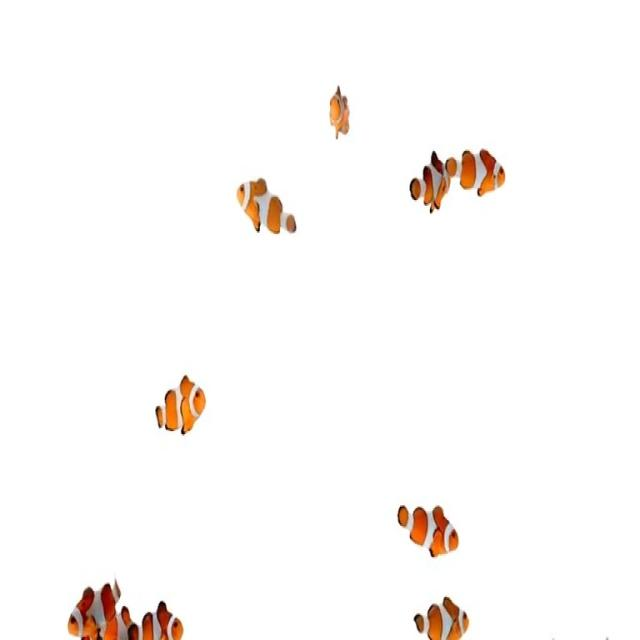fish: (149, 361, 209, 437), (235, 173, 298, 240), (397, 496, 459, 564), (443, 143, 510, 202), (64, 574, 120, 640), (411, 587, 472, 640), (413, 147, 453, 218), (325, 78, 352, 161), (128, 602, 186, 640)
